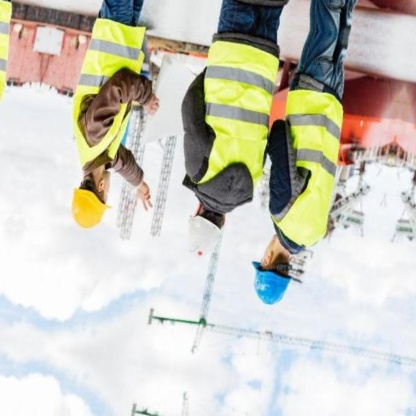blue: (243, 260, 296, 310)
vest: (169, 29, 289, 212), (244, 77, 358, 260), (58, 12, 154, 182)
white: (172, 207, 228, 266)
yellow: (57, 182, 121, 239)
